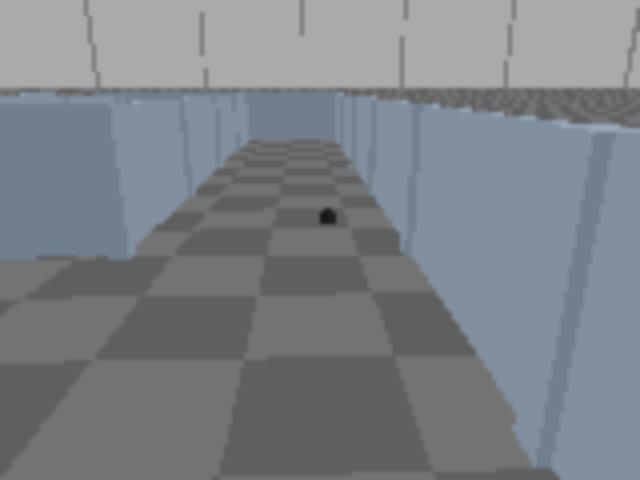puck: (320, 209, 338, 226)
